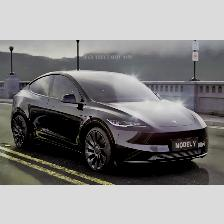EV: (12, 71, 210, 173)
